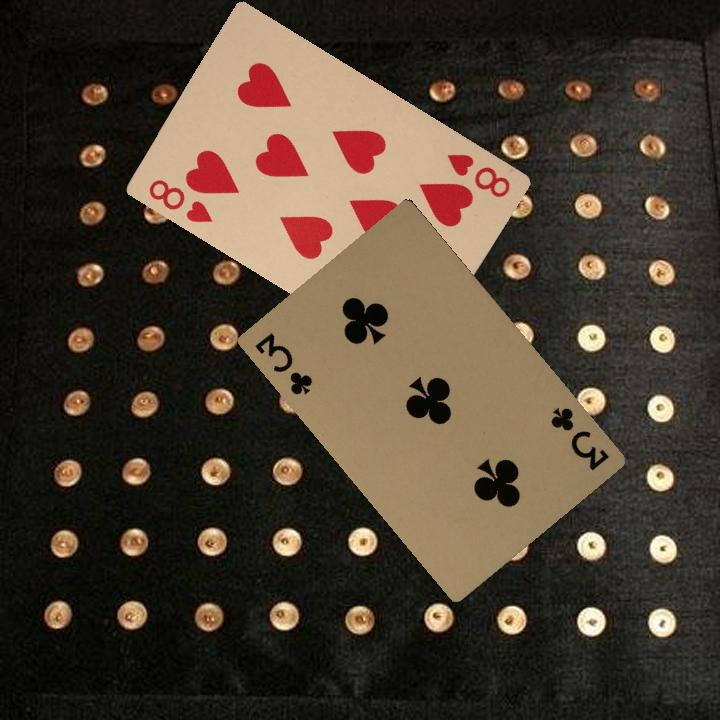3c: (546, 403, 611, 474), (251, 328, 316, 398)
8h: (442, 149, 513, 201), (144, 175, 214, 226)
